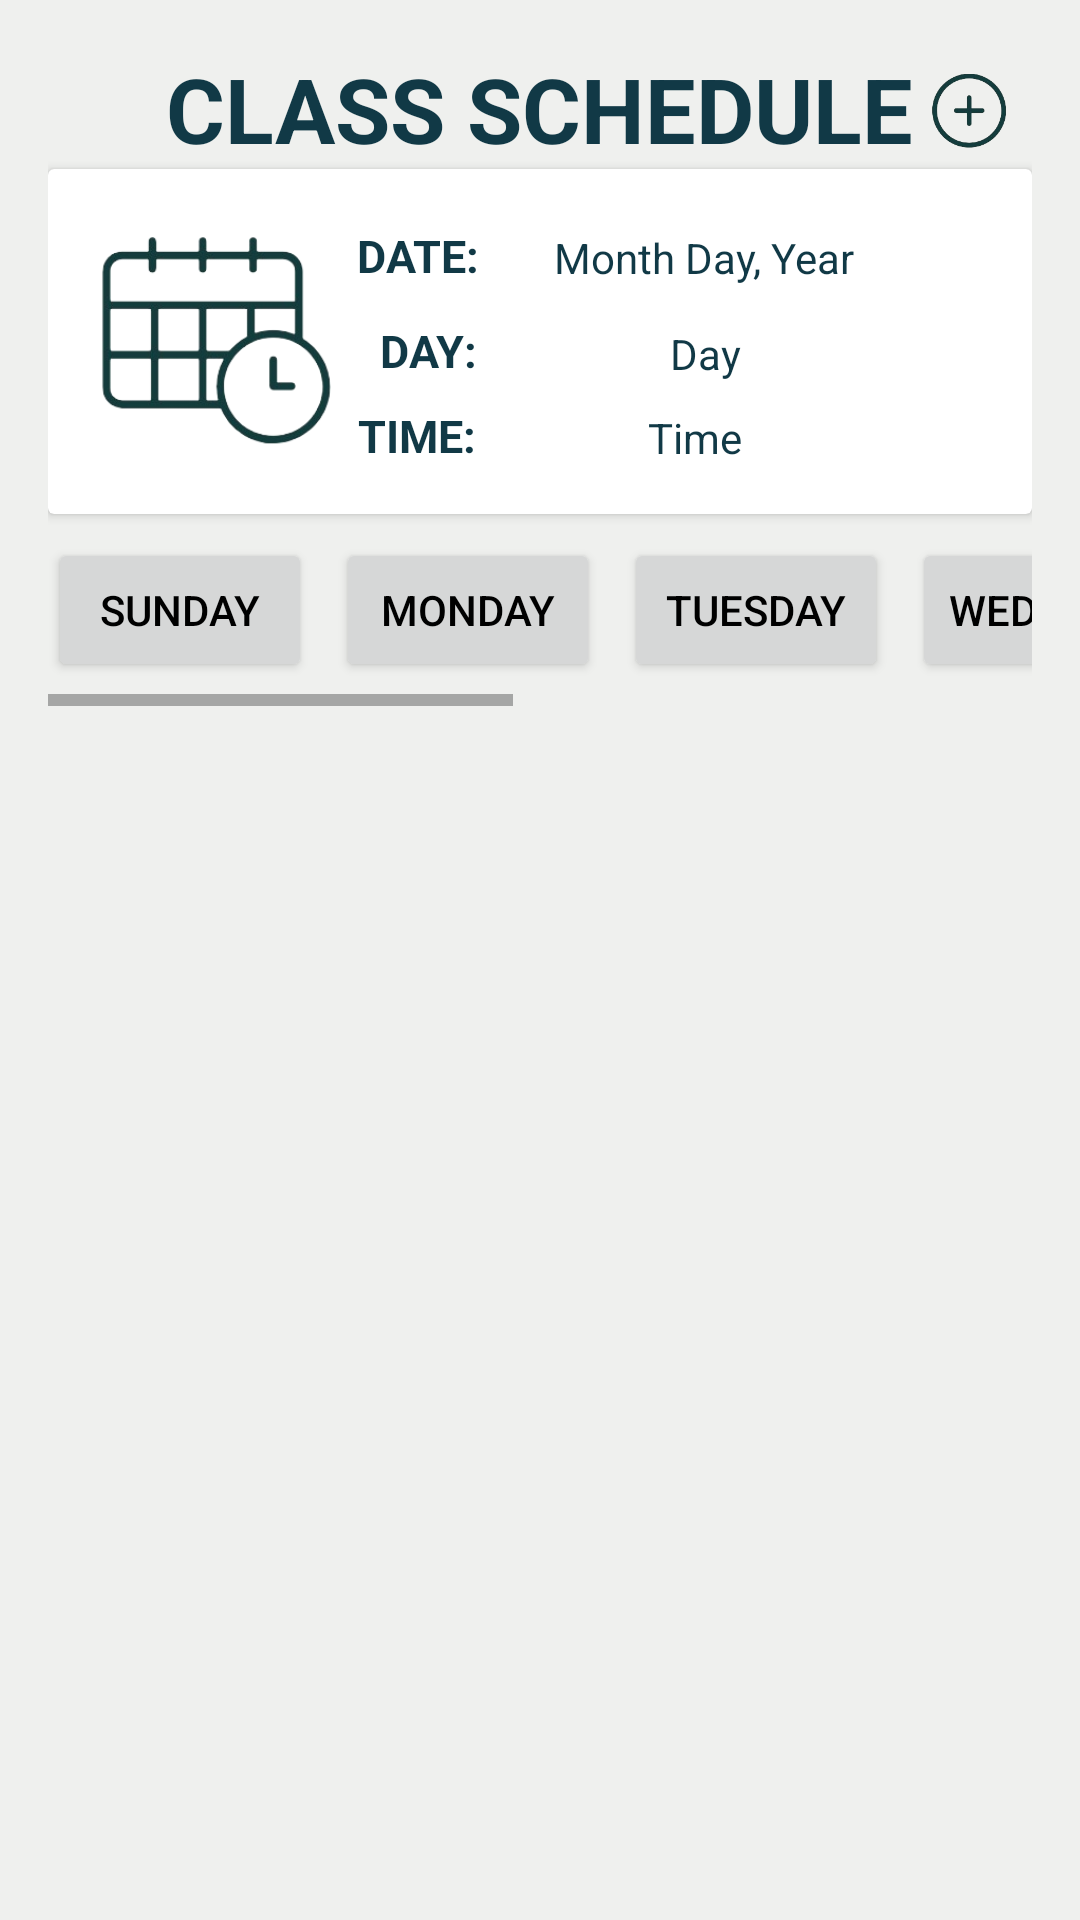

Icon click points for this 1080px x 1920px phone screenshot, format point (x, y):
add: point (969, 111)
cal: point (216, 340)
